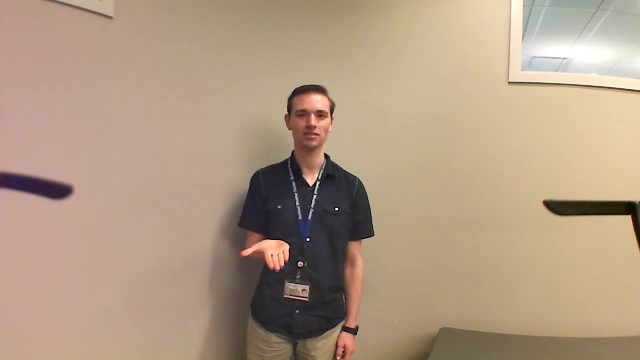land: (238, 234, 297, 274)
